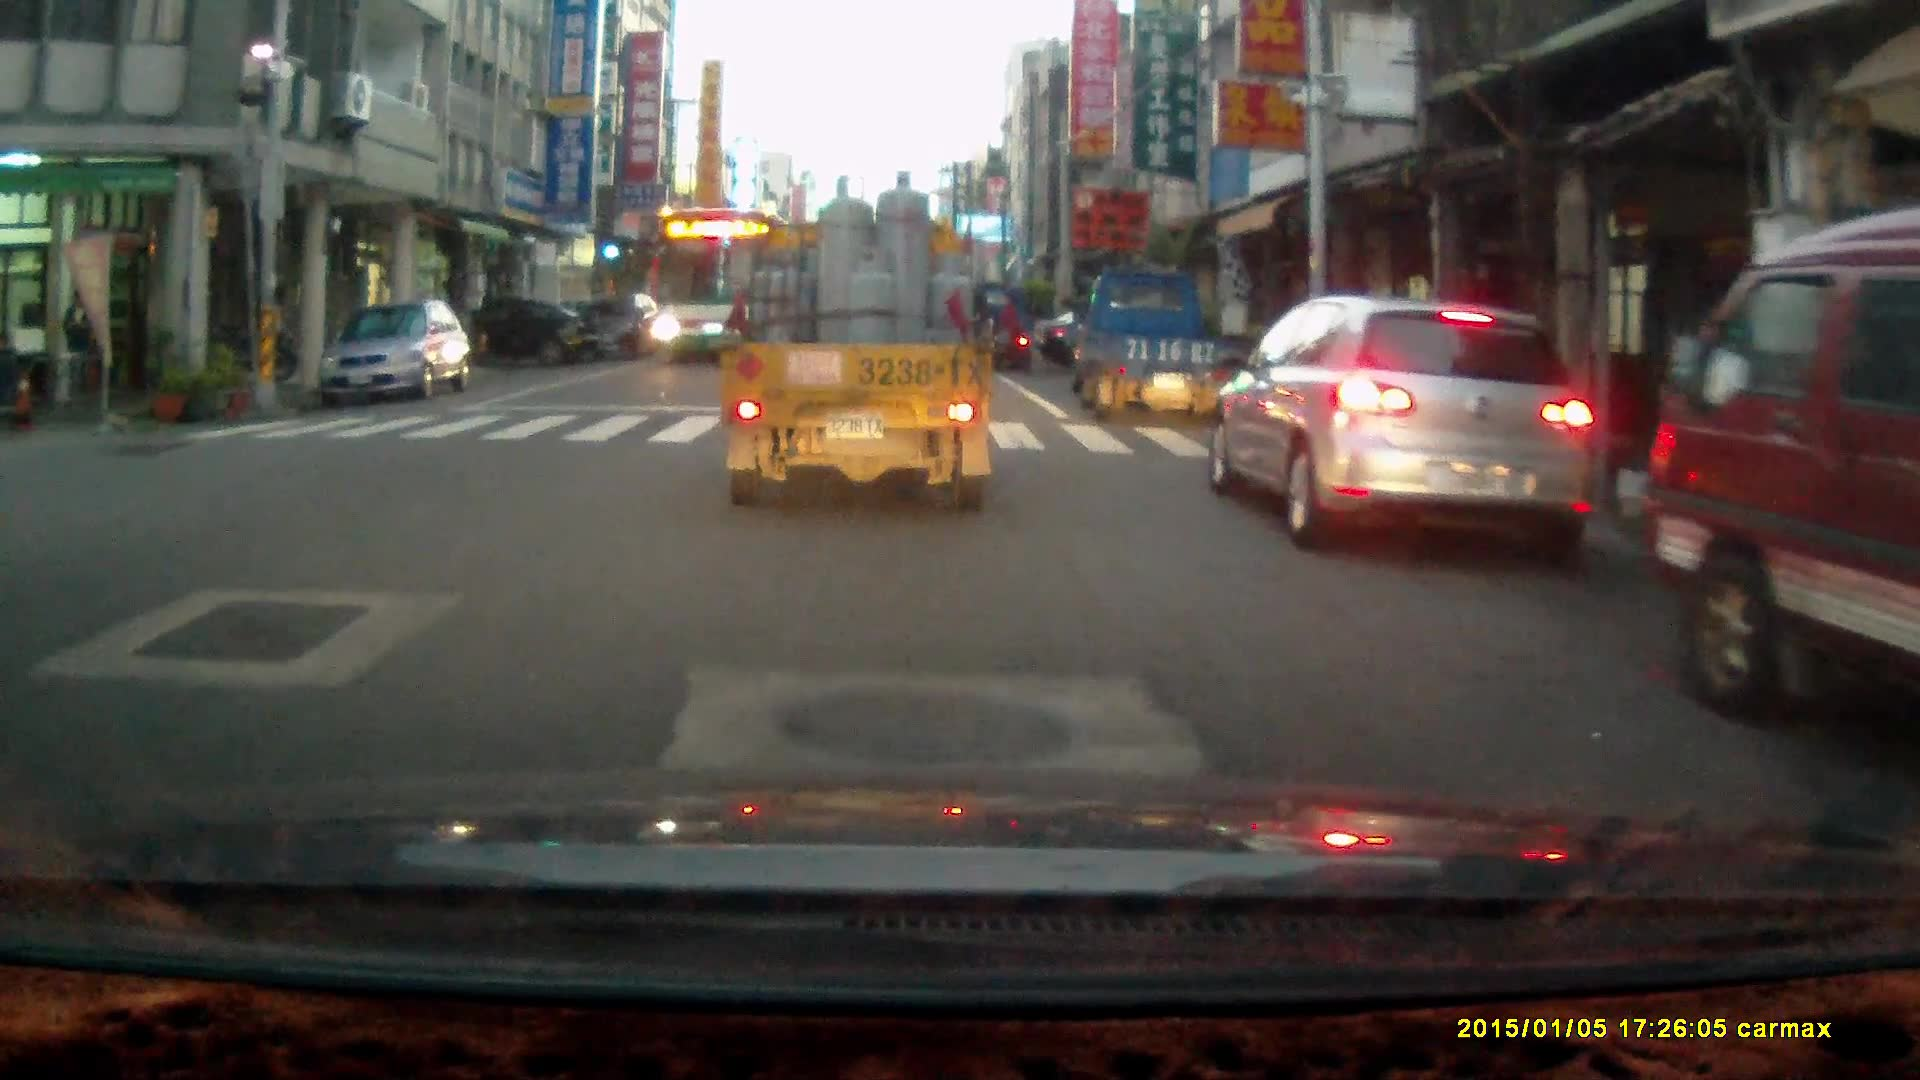pedestrian: (59, 283, 94, 416), (996, 289, 1021, 366)
vehicle: (1634, 201, 1920, 733), (1209, 296, 1598, 571), (726, 171, 994, 517), (1071, 269, 1232, 424), (645, 208, 786, 371), (316, 301, 474, 411), (406, 297, 600, 368), (578, 295, 671, 365)
